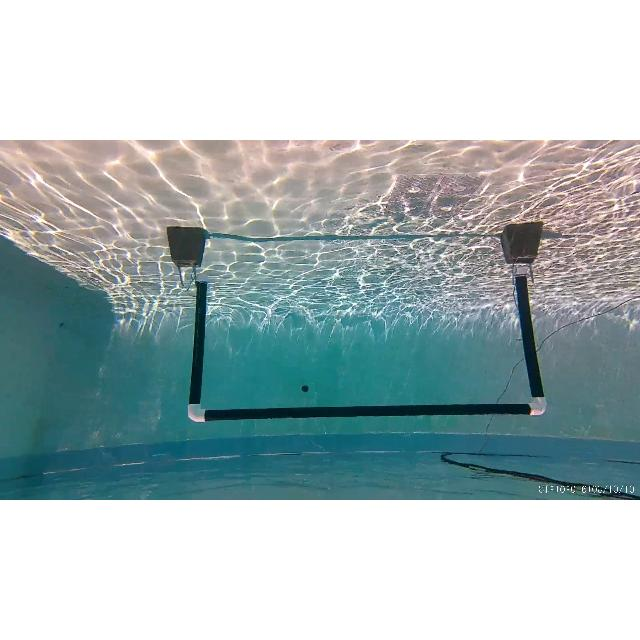prequal gate: (186, 263, 550, 423)
prequal gate leg l: (503, 225, 549, 408)
prequal gate leg r: (170, 230, 220, 422)
